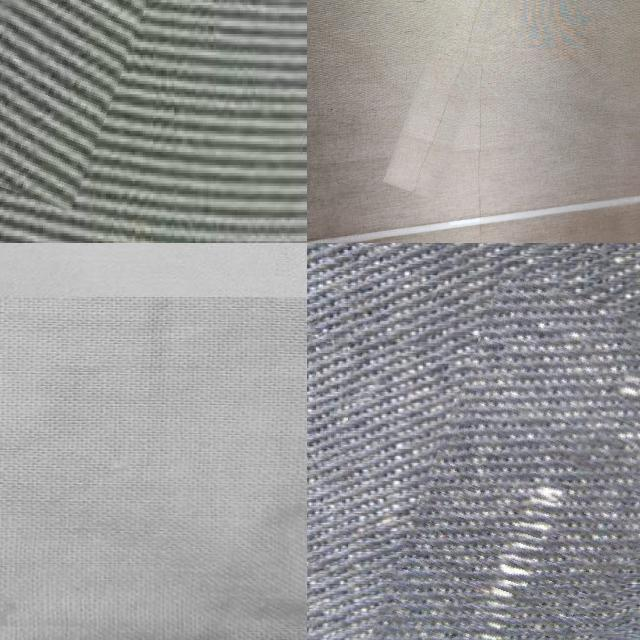Thread_other: (386, 280, 640, 640), (414, 0, 532, 201)
